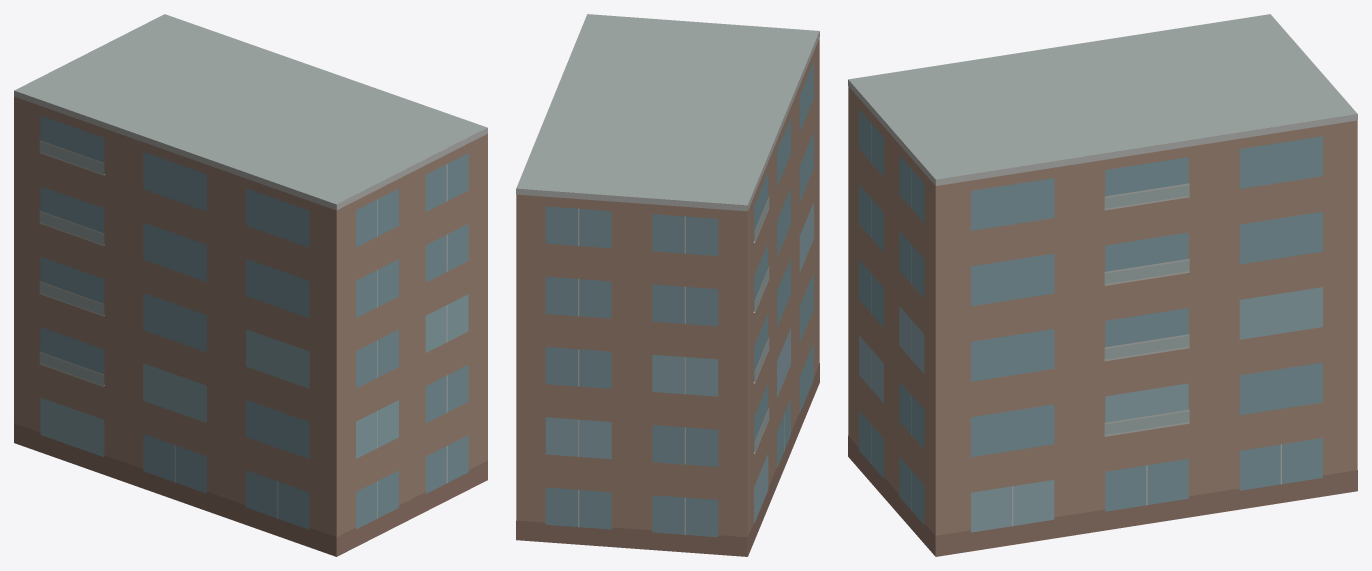
File: survey-upis-32725747.glb
3 views of the same model, side by side, from view 1: azimuth 30°, elevation 25°; view 2: azimuth 150°, elevation 25°; view 3: azimuth 270°, elevation 25° (orthographic). The views are drawn at different scales.
Parts seen in each view (by area): view 1: survey-upis-32725747.tmp; view 2: survey-upis-32725747.tmp; view 3: survey-upis-32725747.tmp.
Boxes of the visible parts, box(x1,y1,x2,y2) form: survey-upis-32725747.tmp: box(14, 14, 487, 556); survey-upis-32725747.tmp: box(516, 14, 819, 556); survey-upis-32725747.tmp: box(848, 14, 1357, 556).
Size of the model in its own units: 13.58 by 14.4 by 17.65.
